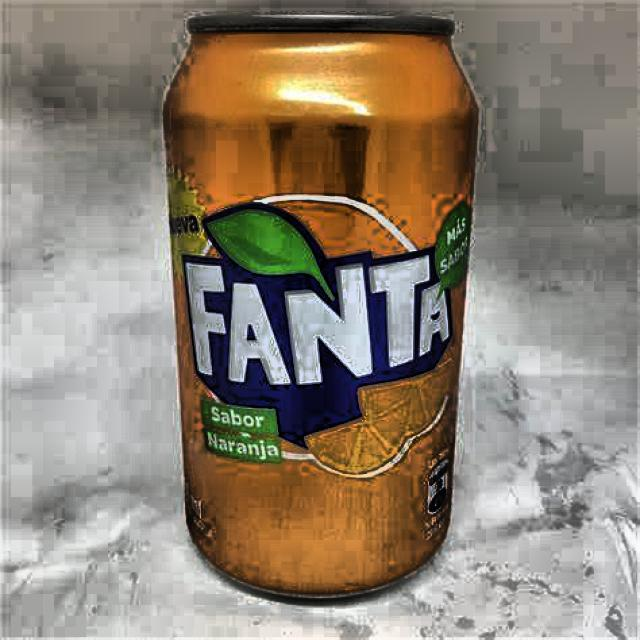Cans: (141, 10, 499, 615)
